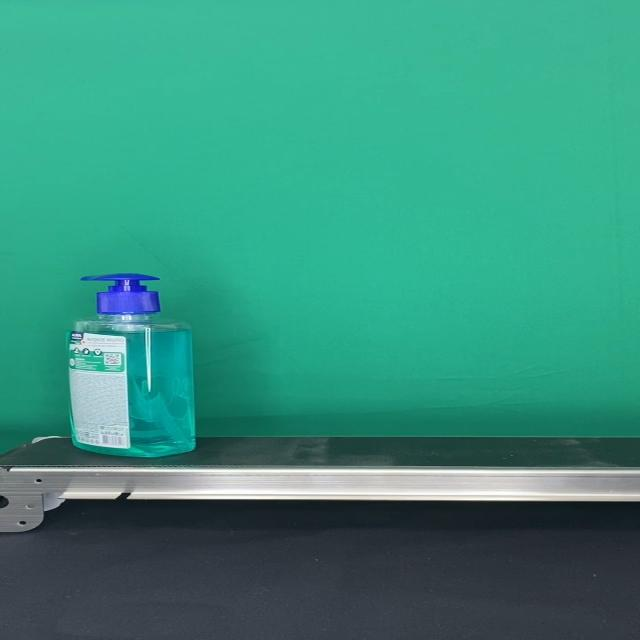Bottle: (66, 273, 196, 458)
Cap: (80, 274, 161, 315)
